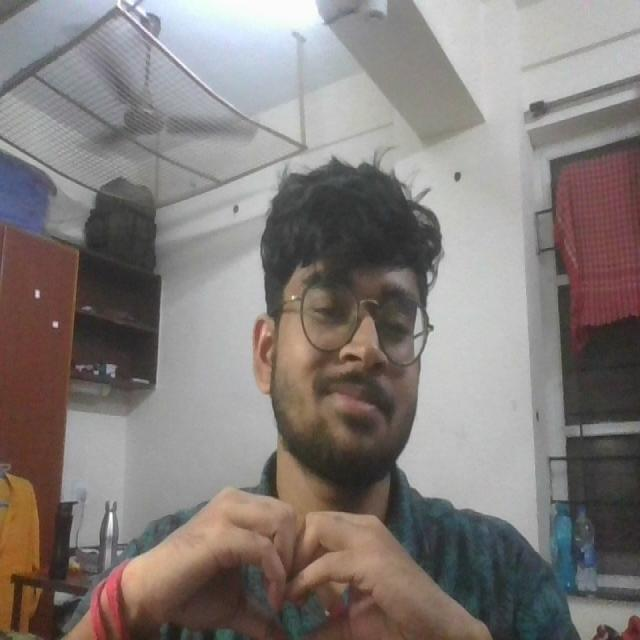IloveYou: (150, 441, 485, 640)
